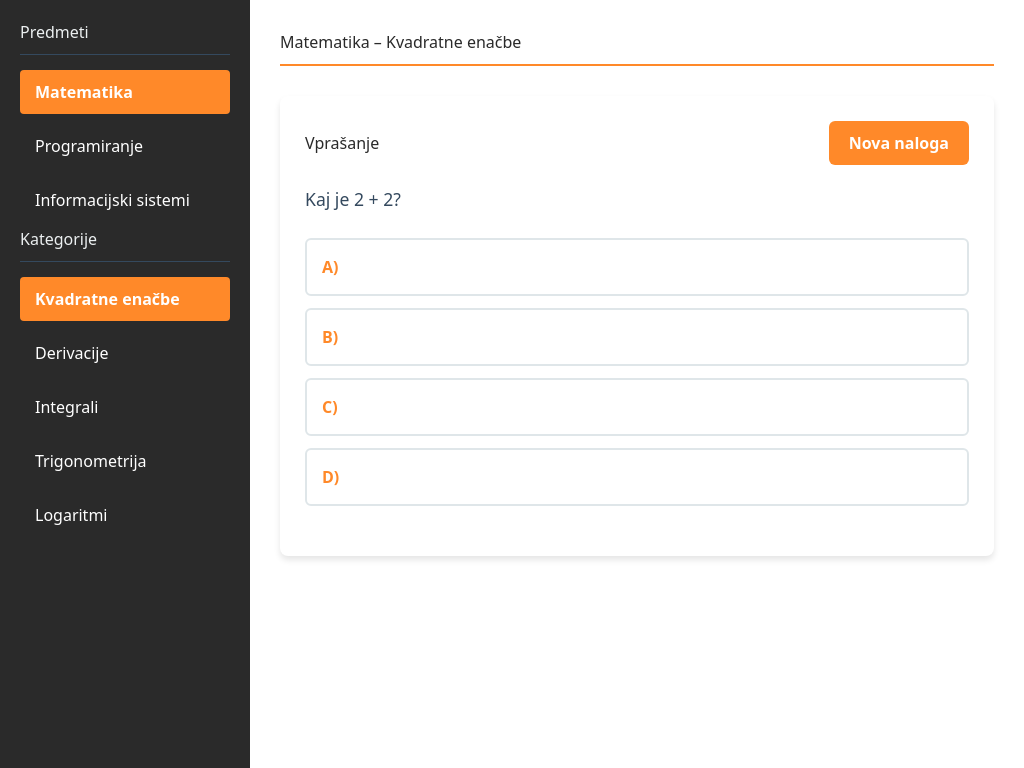
Test: allows changing subject and category
Expected: the text "Kaj je 2 + 2?" is shown, [305,187,401,211]
// Click on a new subject
Click the list item "Programiranje": (89,146) [35,135,143,157]
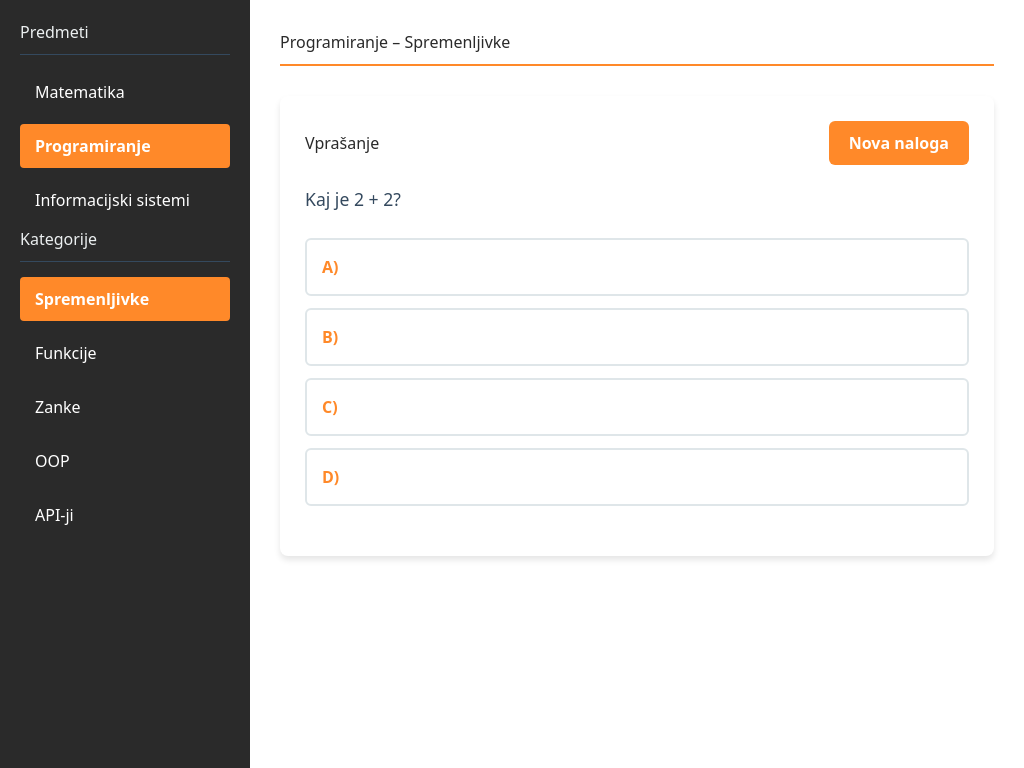
Result: the heading "Programiranje – Spremenljivke" is shown at [280,30,994,66]
